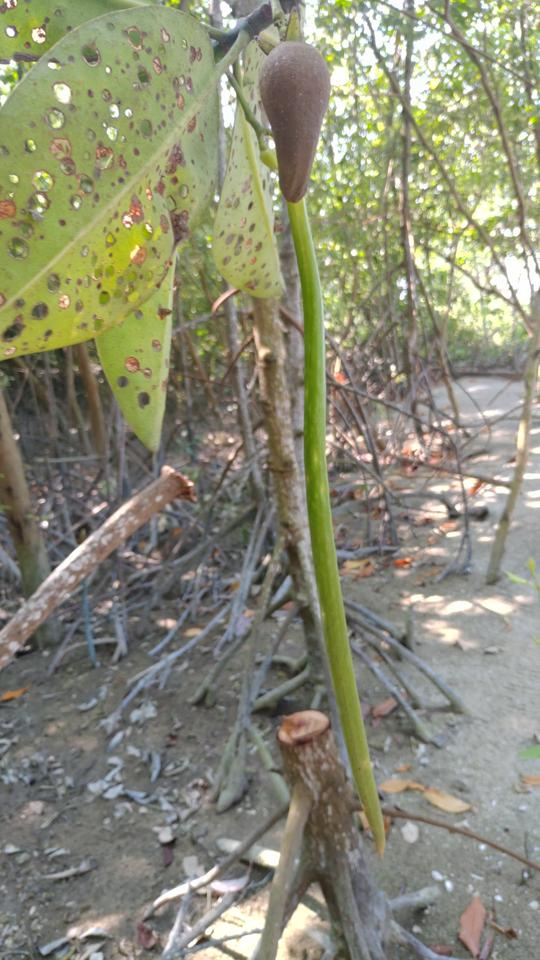mentah: (237, 11, 409, 867)
